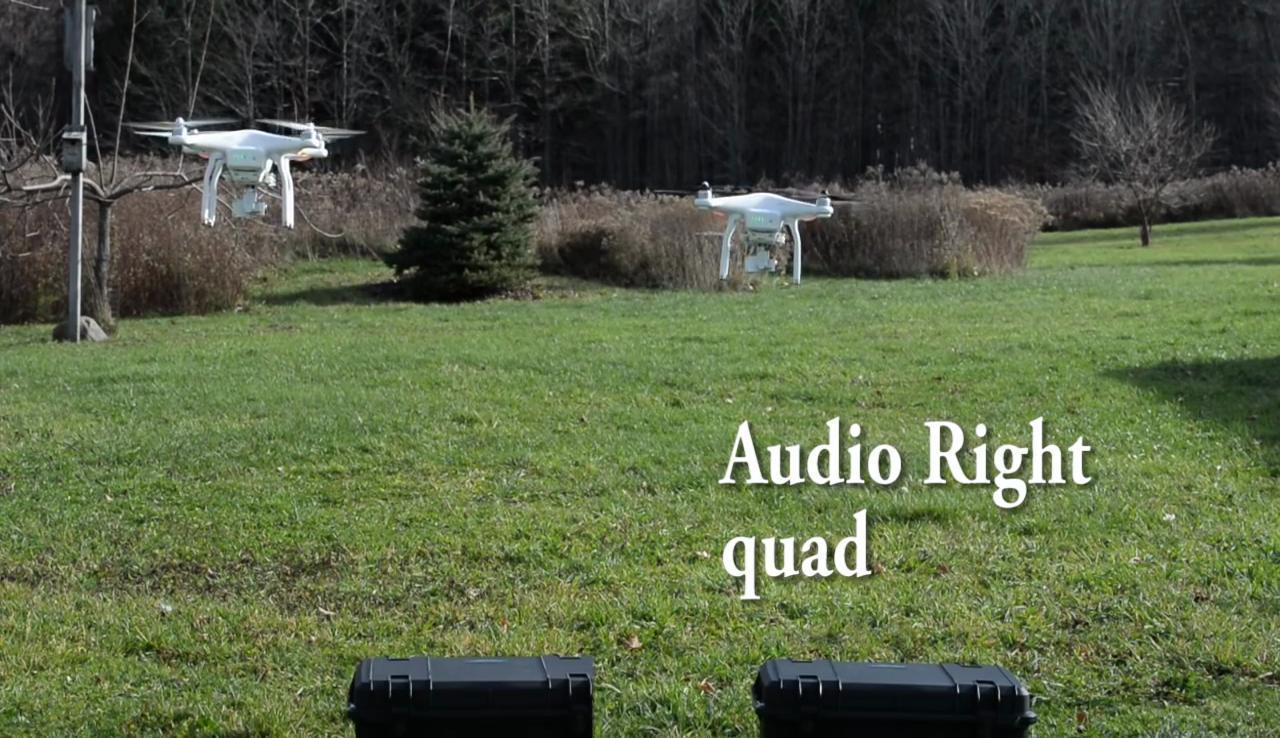drone: (148, 100, 328, 237), (696, 182, 836, 284)
